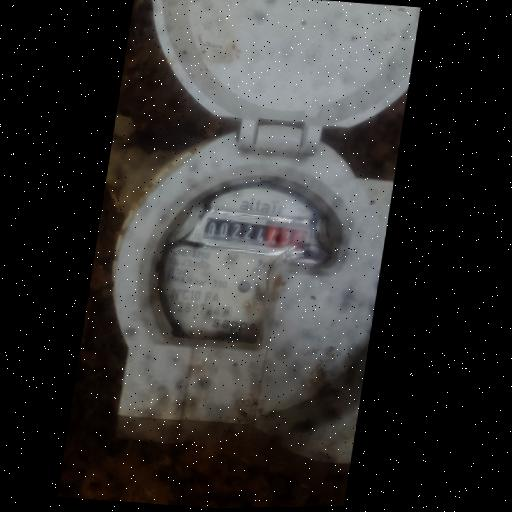0: (202, 217, 221, 240), (216, 218, 233, 242)
1: (291, 229, 308, 246)
2: (229, 220, 246, 243), (240, 222, 257, 245)
3: (276, 227, 295, 250)
4: (252, 224, 269, 247), (264, 226, 281, 248)
border_water_meter_number: (197, 212, 314, 257)
